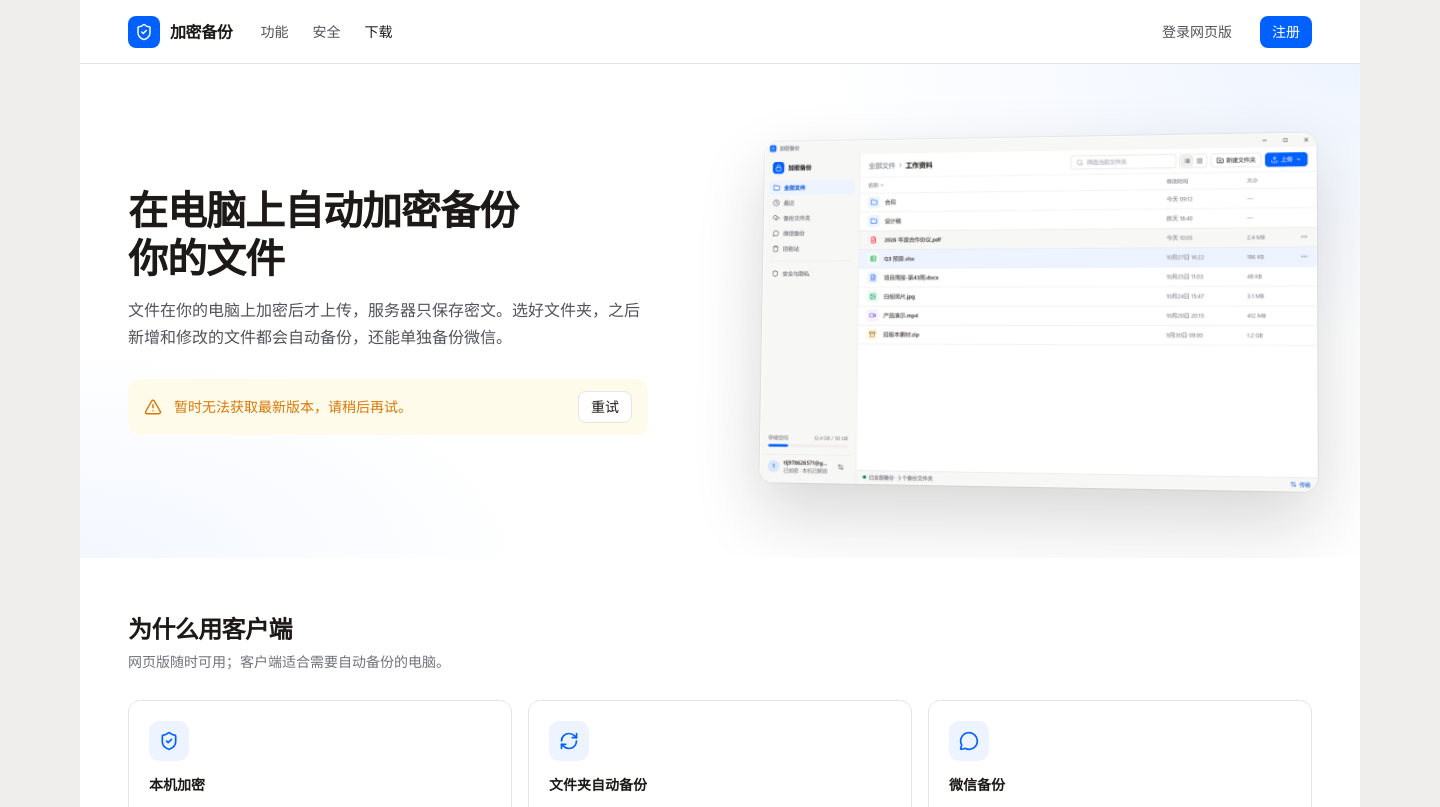
Test: 公开下载页 › 清单不可用时提示并提供重试；重试成功后显示版本信息
Check: the message with test id "download-manifest-error" shows "暂时无法获取最新版本", box [174,398,412,415]
Check: the text "0.2.0" is not shown
Click the button with test id "download-retry".
click(605, 407)  # box [578,391,632,423]
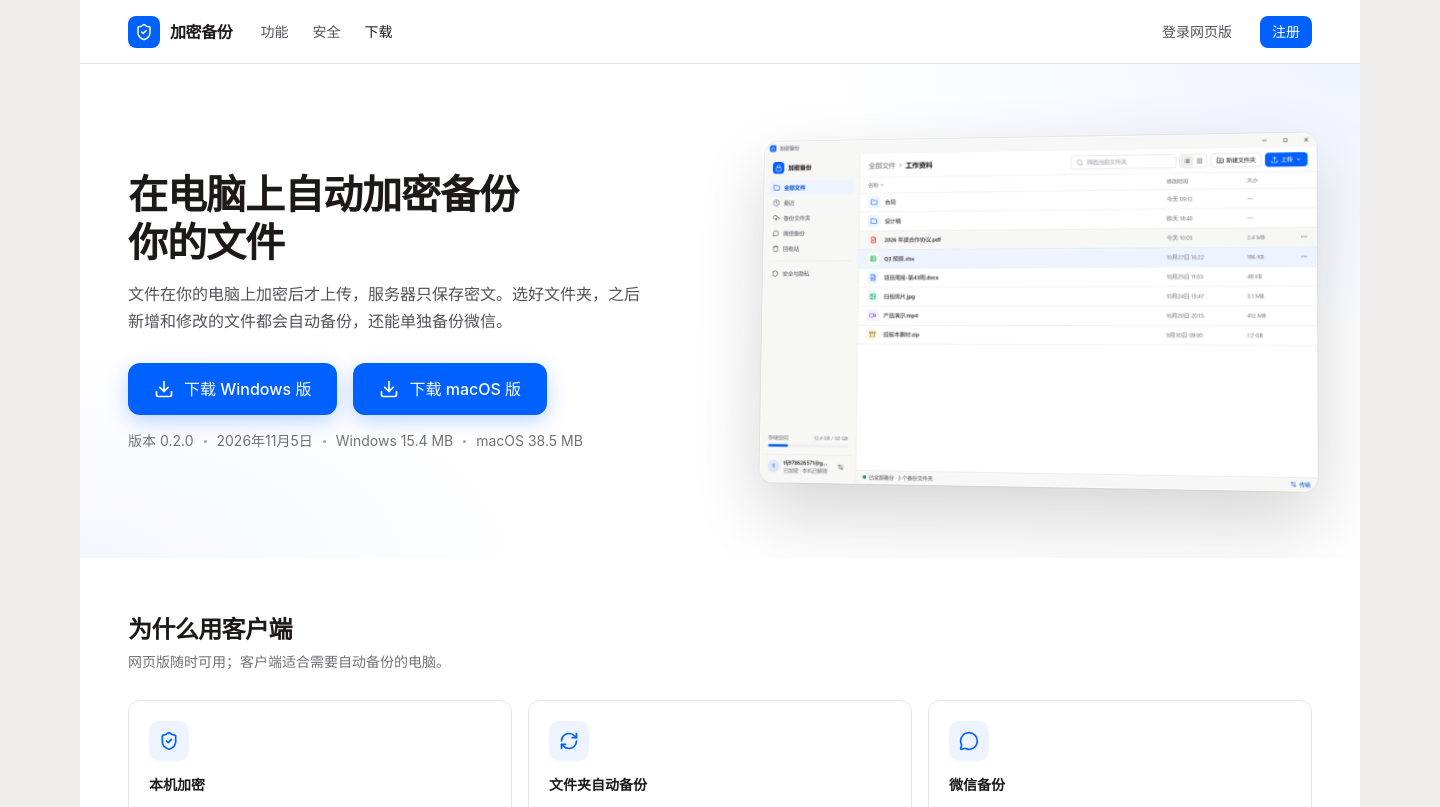
Check: the link with test id "download-windows" reads "下载 Windows 版", box [128,363,337,415]
Check: the text "版本 0.2.0" is shown, box [128,431,194,451]
